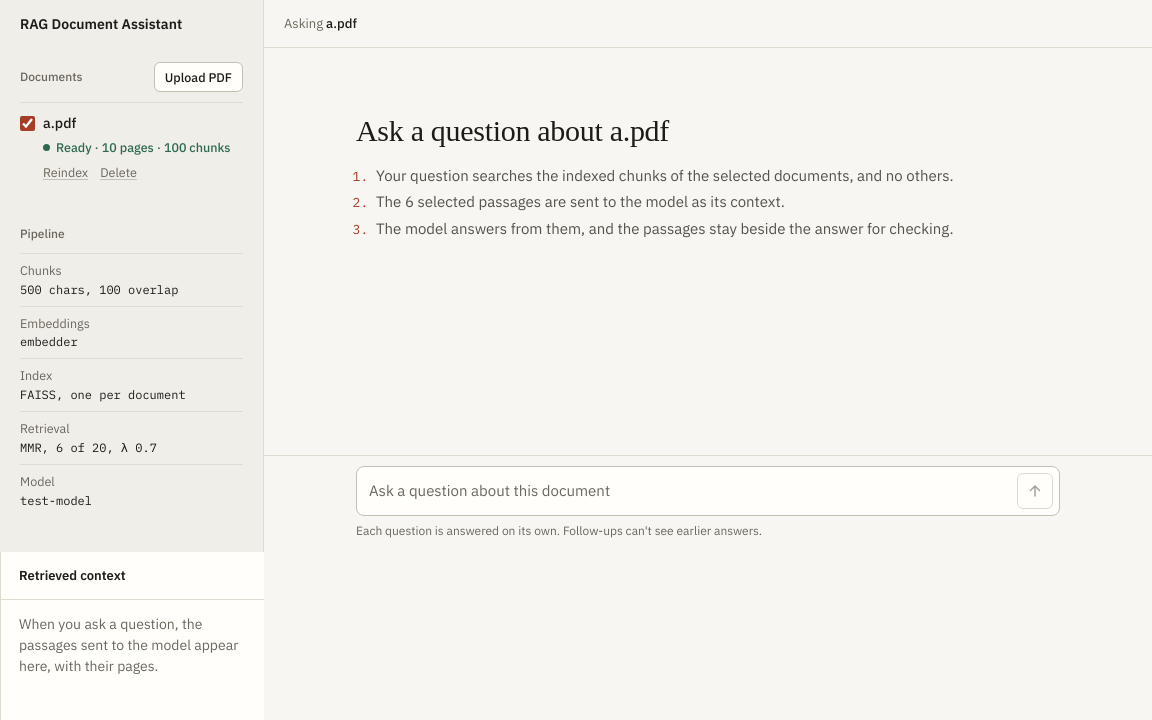
Test case: delete and reindex › can cancel a delete
This screenshot has width=1152, height=720.
Step 1. Click the button "Delete" → (119, 173), box [100,161,137,185]
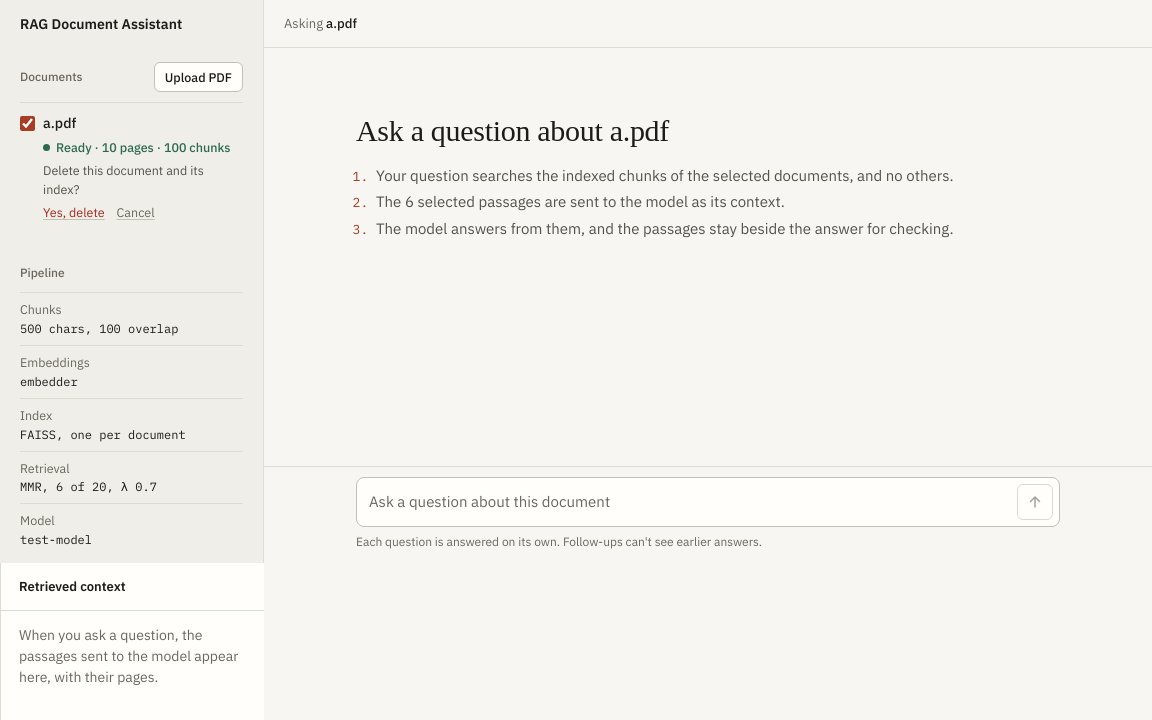
Step 2. Click the button "Cancel" → (136, 212), box [117,200,155,224]
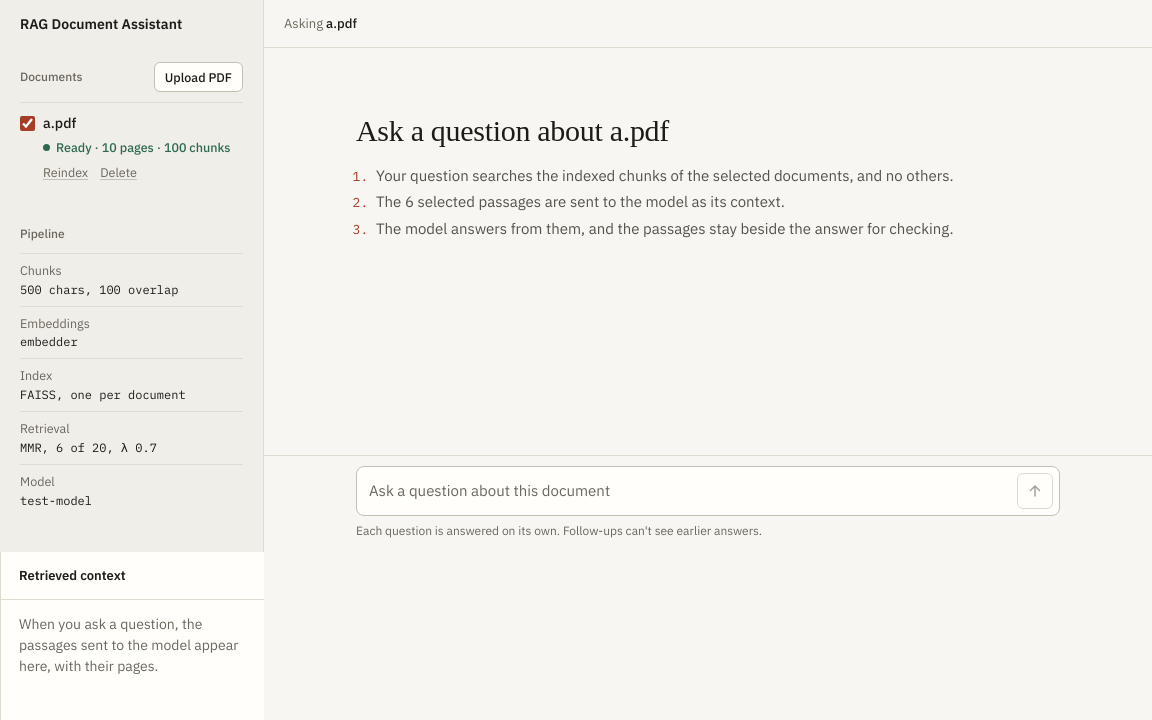
Now the button "Delete" is shown, box [100,161,137,185]
